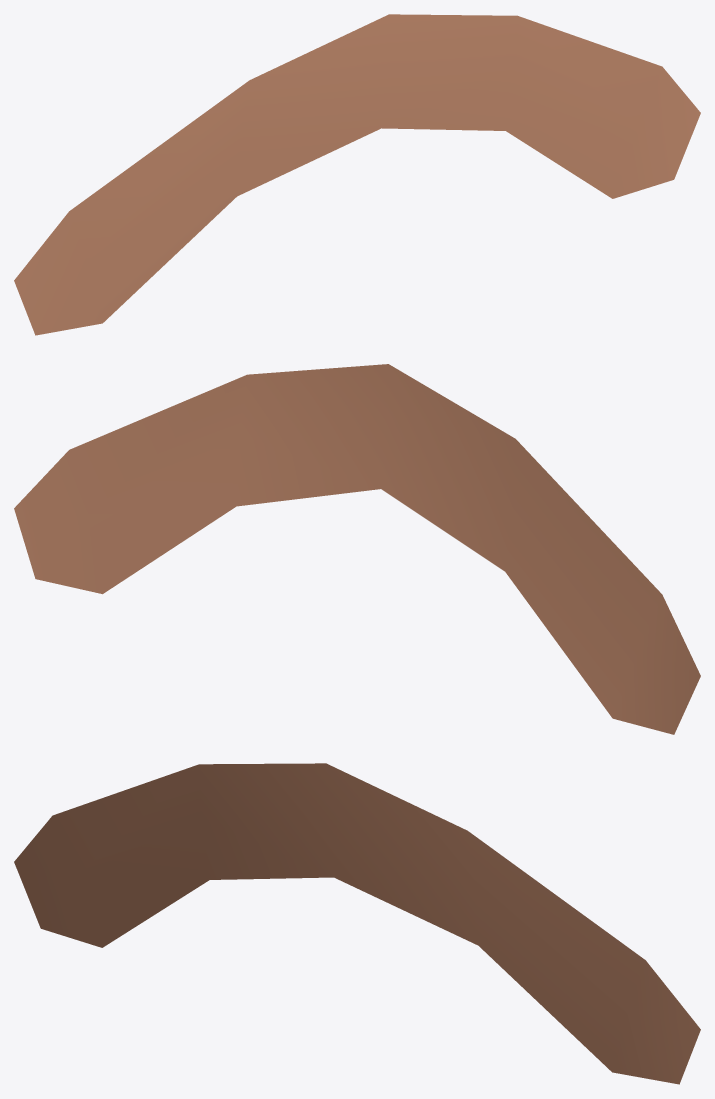
File: lips_4.fbx
The picture shows the model from 3 angles, top to bottom: view 1: azimuth 30°, elevation 25°; view 2: azimuth 150°, elevation 25°; view 3: azimuth 330°, elevation 25°; orthographic projection.
Parts seen in each view (by area): view 1: lips_4; view 2: lips_4; view 3: lips_4.
Part boxes in pixels (box(x1,y1,x2,y2)): lips_4: box(14, 14, 700, 335); lips_4: box(14, 364, 700, 734); lips_4: box(14, 763, 700, 1084).
Bounding box in the file's own units: 6.25 × 2.35 × 0.5357.
